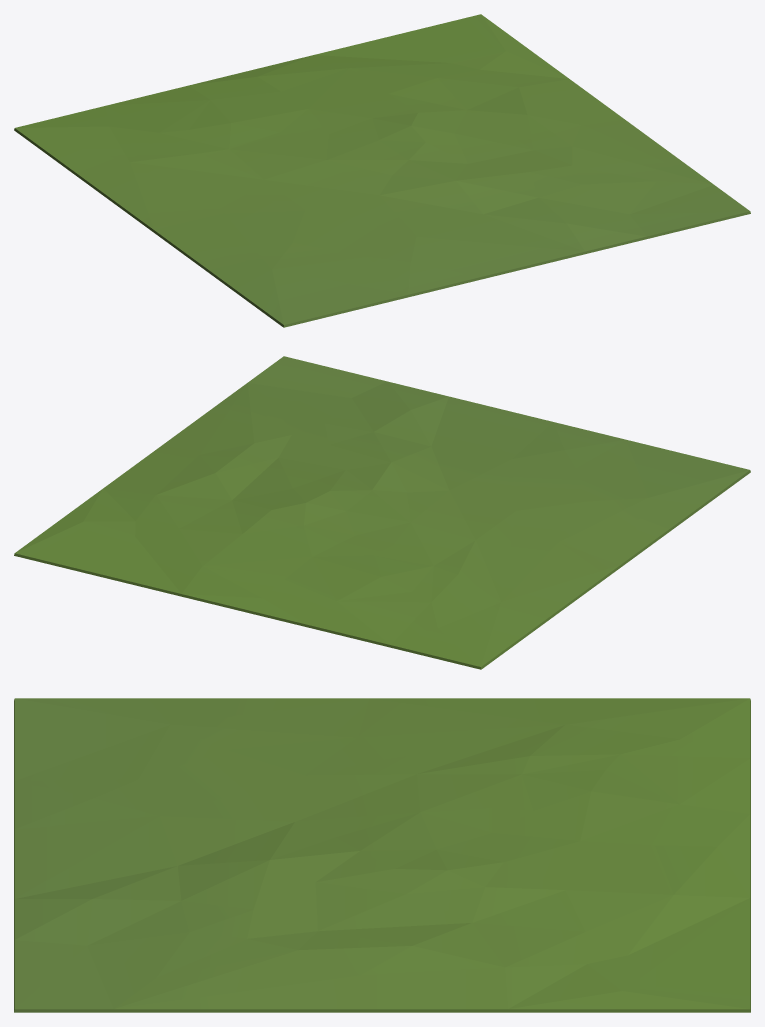
File: Mud_07.fbx
The picture shows the model from 3 angles, top to bottom: view 1: azimuth 30°, elevation 25°; view 2: azimuth 150°, elevation 25°; view 3: azimuth 270°, elevation 25°; orthographic projection. The views are drawn at different scales.
Visible parts, largest first — view 1: Mud_07; view 2: Mud_07; view 3: Mud_07.
Part boxes in pixels (x1,y1,x2,y2): Mud_07: [14, 14, 750, 327]; Mud_07: [14, 356, 750, 669]; Mud_07: [14, 698, 750, 1012].
Bounding box in the file's own units: 4.01 × 0.1306 × 4.01.
